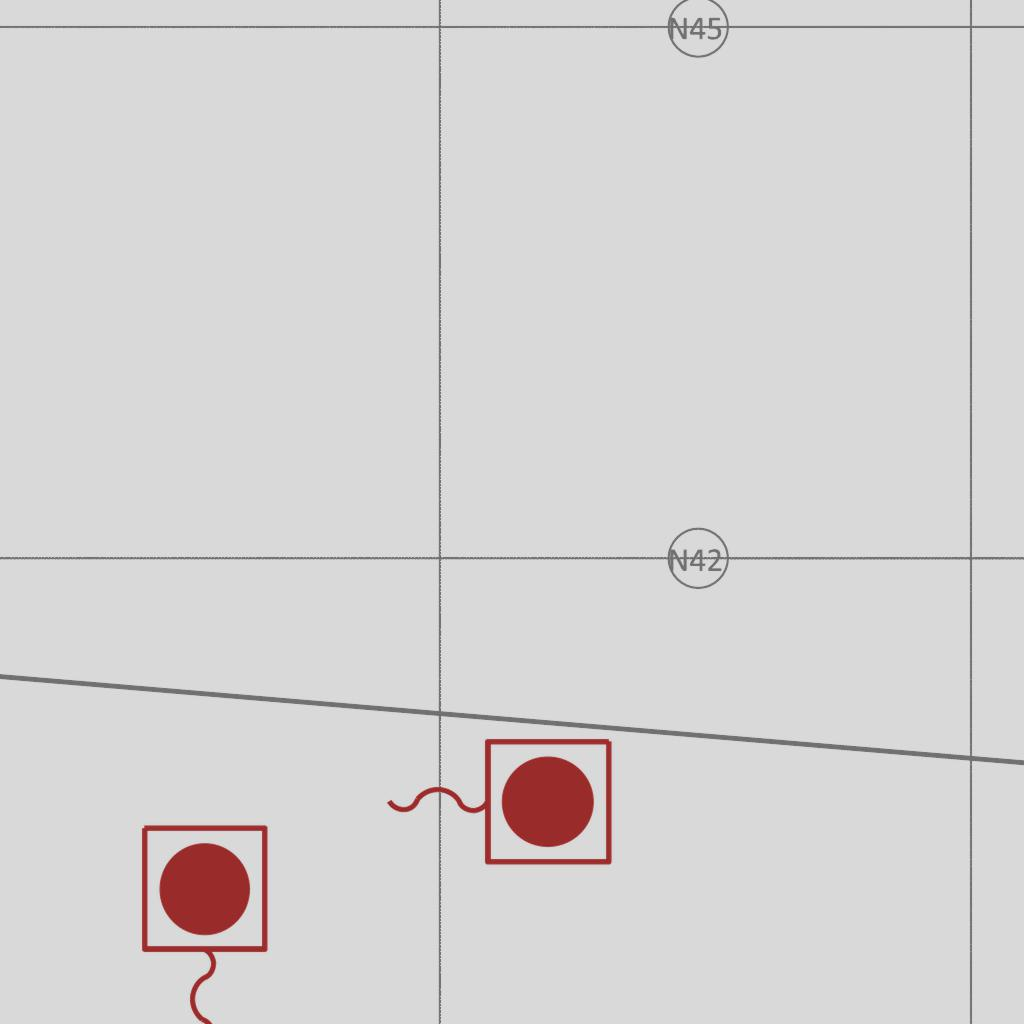Zugtaster: (376, 728, 620, 872), (131, 817, 275, 1024)
